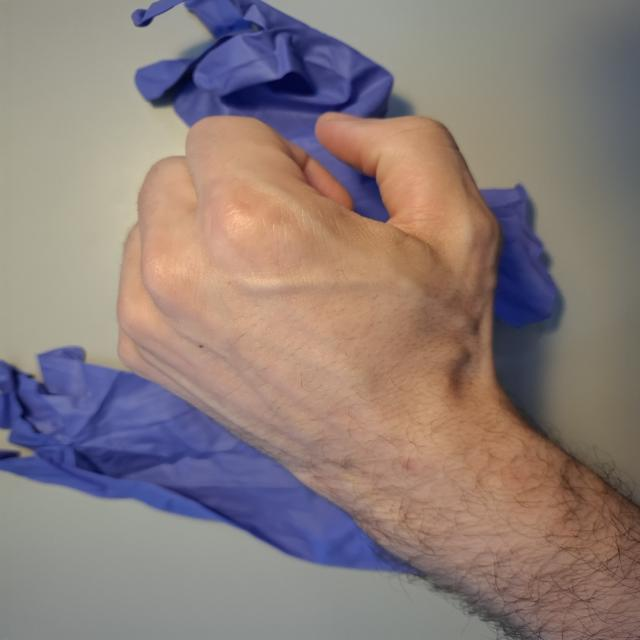glove_off: (105, 101, 562, 527)
